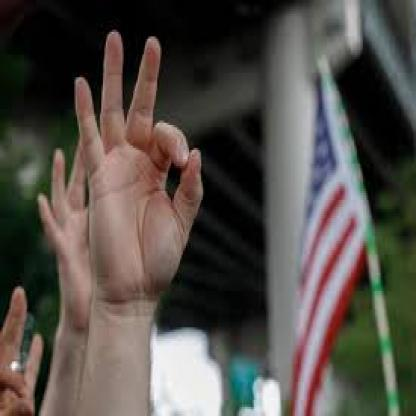ok: (72, 26, 204, 298)
